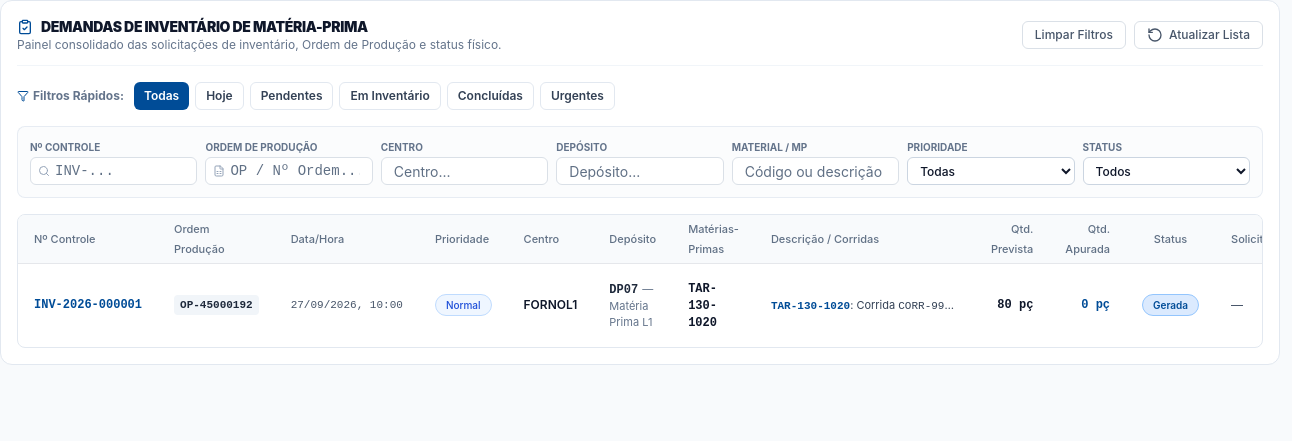
Test case: DemandaSucessoModal & Atualização Imediata do Grid › exibe aviso discreto quando a demanda recém-criada não atende aos filtros ativos da tabela
Expected: the text "INV-2026-000001" is shown, [18,263,158,346]
// Agora aplicamos um filtro que exclui essa demanda (ex.: buscar outro centro)
In the field with placeholder "Centro...": {"x": 464, "y": 171} [381,157,548,185], type "CENTRO_INEXISTENTE"
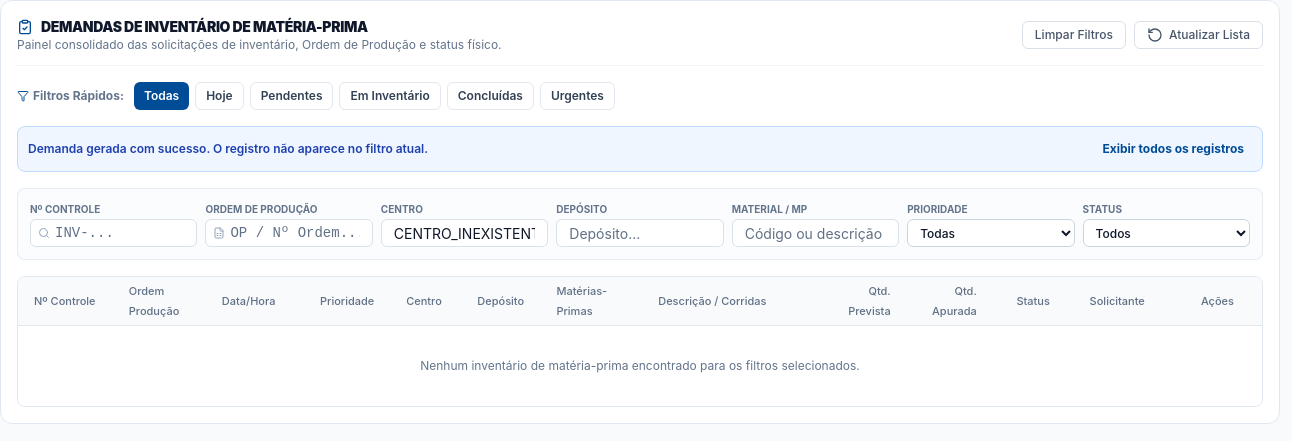
Result: the text "Demanda gerada com sucesso. O registro não aparece no filtro atual." is shown at [28,141,428,157]
